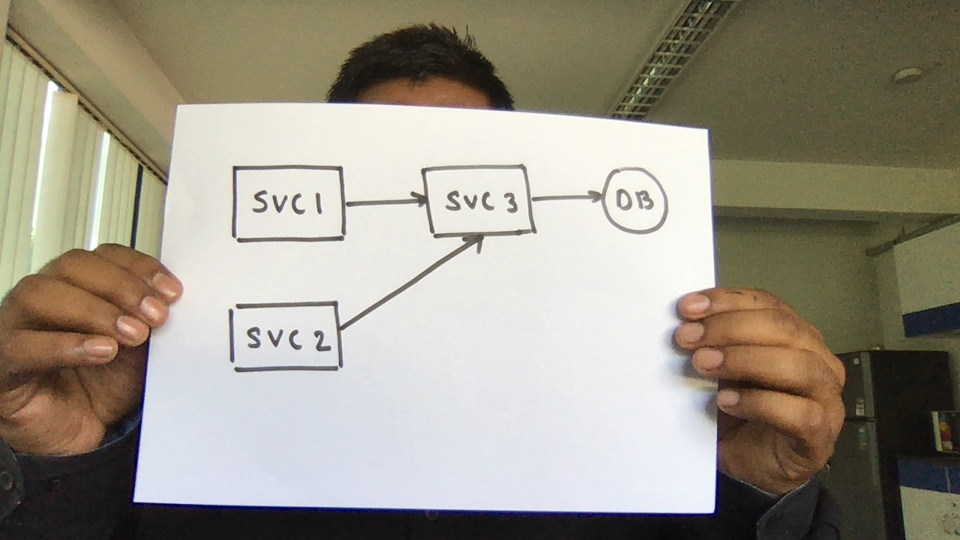db: (595, 159, 672, 235)
ec2: (227, 159, 354, 250), (222, 289, 349, 380), (415, 154, 542, 245)
